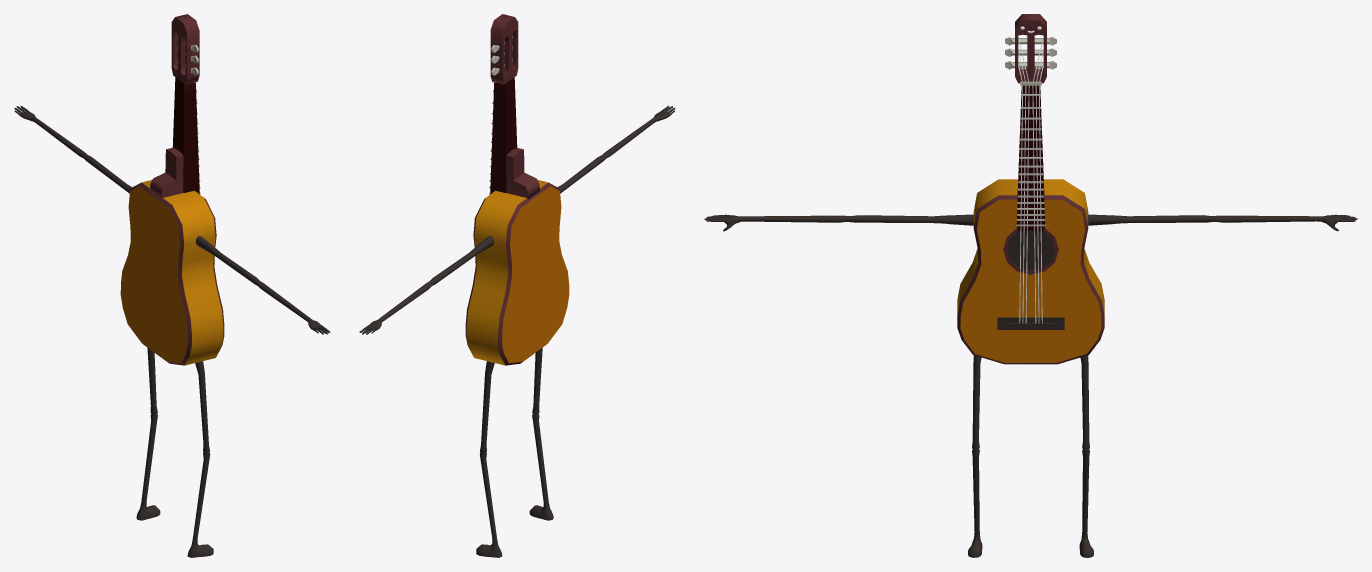
Rendered from Guitar Character.glb.
3 views of the same model, side by side, from view 1: azimuth 30°, elevation 25°; view 2: azimuth 150°, elevation 25°; view 3: azimuth 270°, elevation 25° (orthographic). The views are drawn at different scales.
Visible parts, largest first — view 1: _100Avatars_143_CoolGuitar; view 2: _100Avatars_143_CoolGuitar; view 3: _100Avatars_143_CoolGuitar.
Part boxes in pixels (x1,y1,x2,y2): _100Avatars_143_CoolGuitar: [14, 14, 330, 557]; _100Avatars_143_CoolGuitar: [359, 14, 675, 557]; _100Avatars_143_CoolGuitar: [704, 14, 1357, 557].
Bounding box in the file's own units: 0.6042 × 7.32 × 8.02.
Materials: 1 (1 with a texture image).
